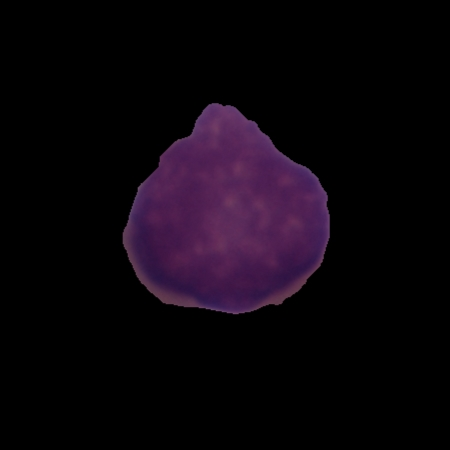HEM: (119, 98, 336, 317)
